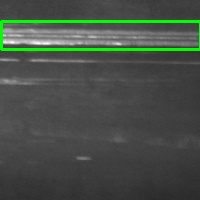scratches: (1, 21, 200, 49), (2, 55, 115, 70)
